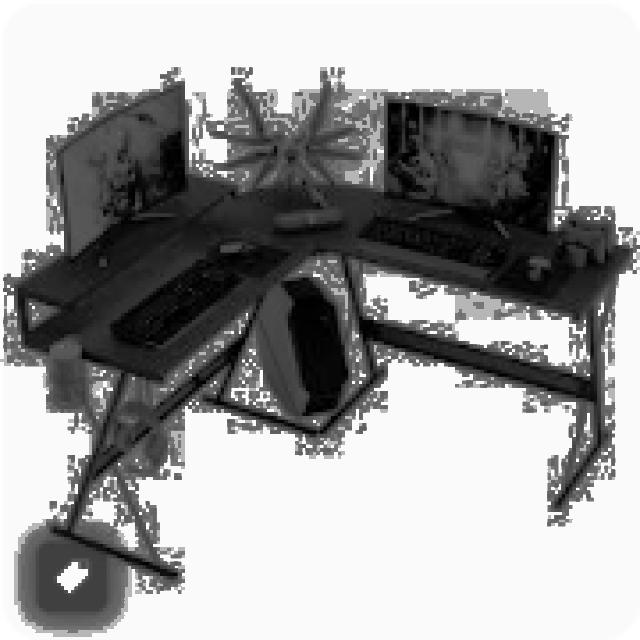table: (14, 178, 633, 580)
